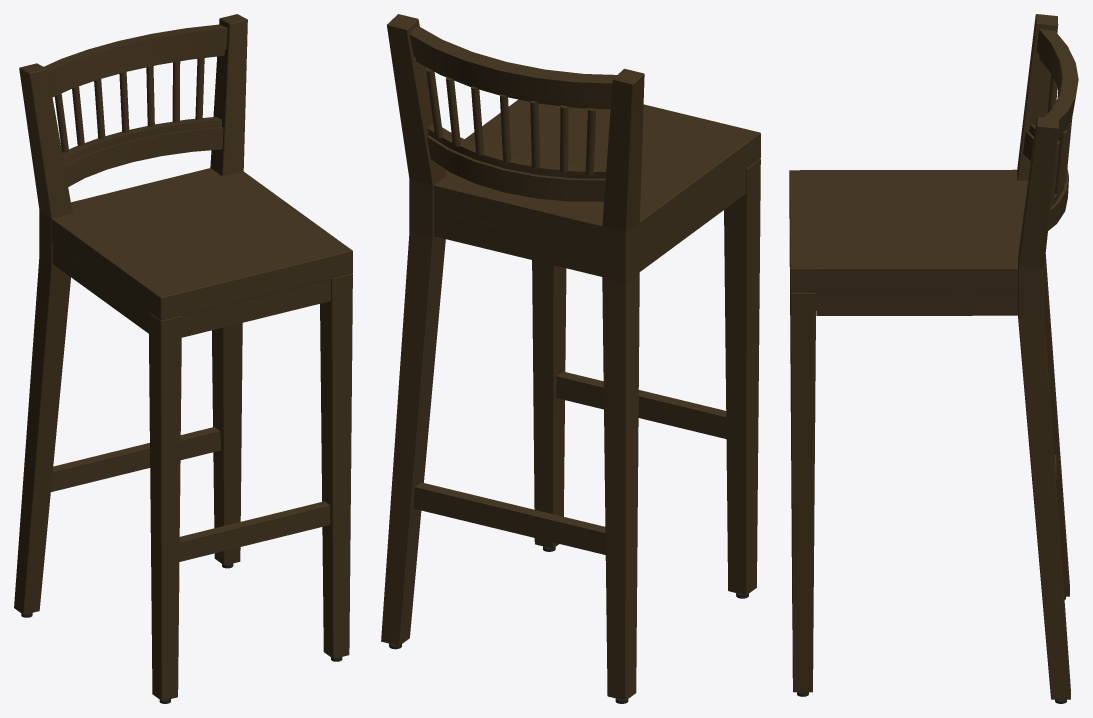
Rendered from chair.obj.
The picture shows the model from 3 angles, left to right: view 1: azimuth 30°, elevation 25°; view 2: azimuth 150°, elevation 25°; view 3: azimuth 270°, elevation 25°; orthographic projection. The views are drawn at different scales.
Parts seen in each view (by area): view 1: wood_stool.001_Cube.003, stool_support2_Cube.006; view 2: wood_stool.001_Cube.003, stool_support2_Cube.006; view 3: wood_stool.001_Cube.003, stool_support2_Cube.006.
Boxes of the visible parts, x1=… form: wood_stool.001_Cube.003: x1=14, y1=14, x2=352, y2=703; stool_support2_Cube.006: x1=44, y1=24, x2=227, y2=186; wood_stool.001_Cube.003: x1=381, y1=14, x2=760, y2=703; stool_support2_Cube.006: x1=409, y1=26, x2=616, y2=201; wood_stool.001_Cube.003: x1=789, y1=14, x2=1070, y2=703; stool_support2_Cube.006: x1=1023, y1=29, x2=1078, y2=230.
Size of the model in its own units: 0.4475 by 1.08 by 0.4871.
